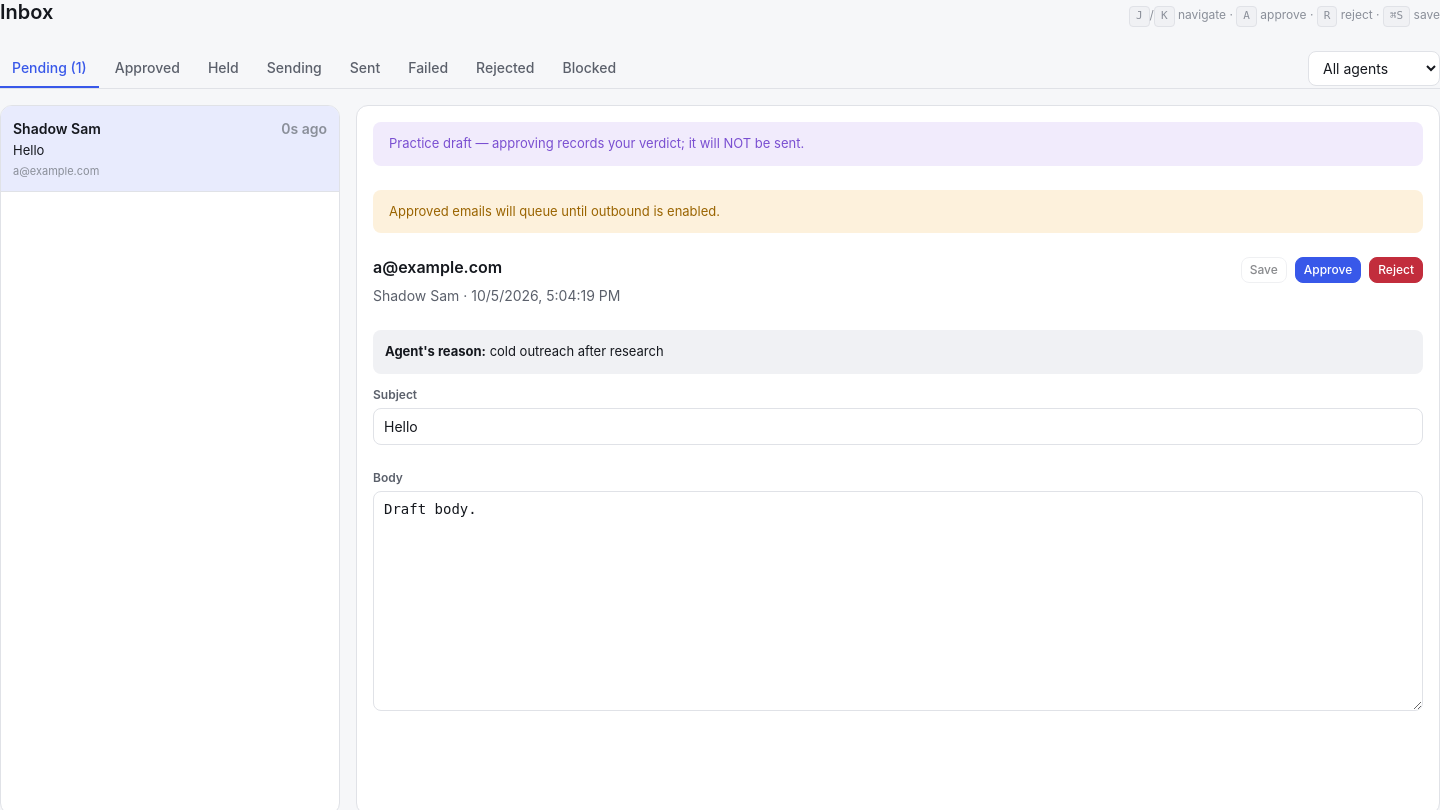
Inbox approval flow › approving a shadow-tier draft removes it from the pending list
Expected: the heading "a@example.com" is shown, [373,257,502,277]
What coordinates should you click on to do the following:
click the button "Approve"
I would click on:
 (1328, 270)
Its box is [1295,257,1361,283].
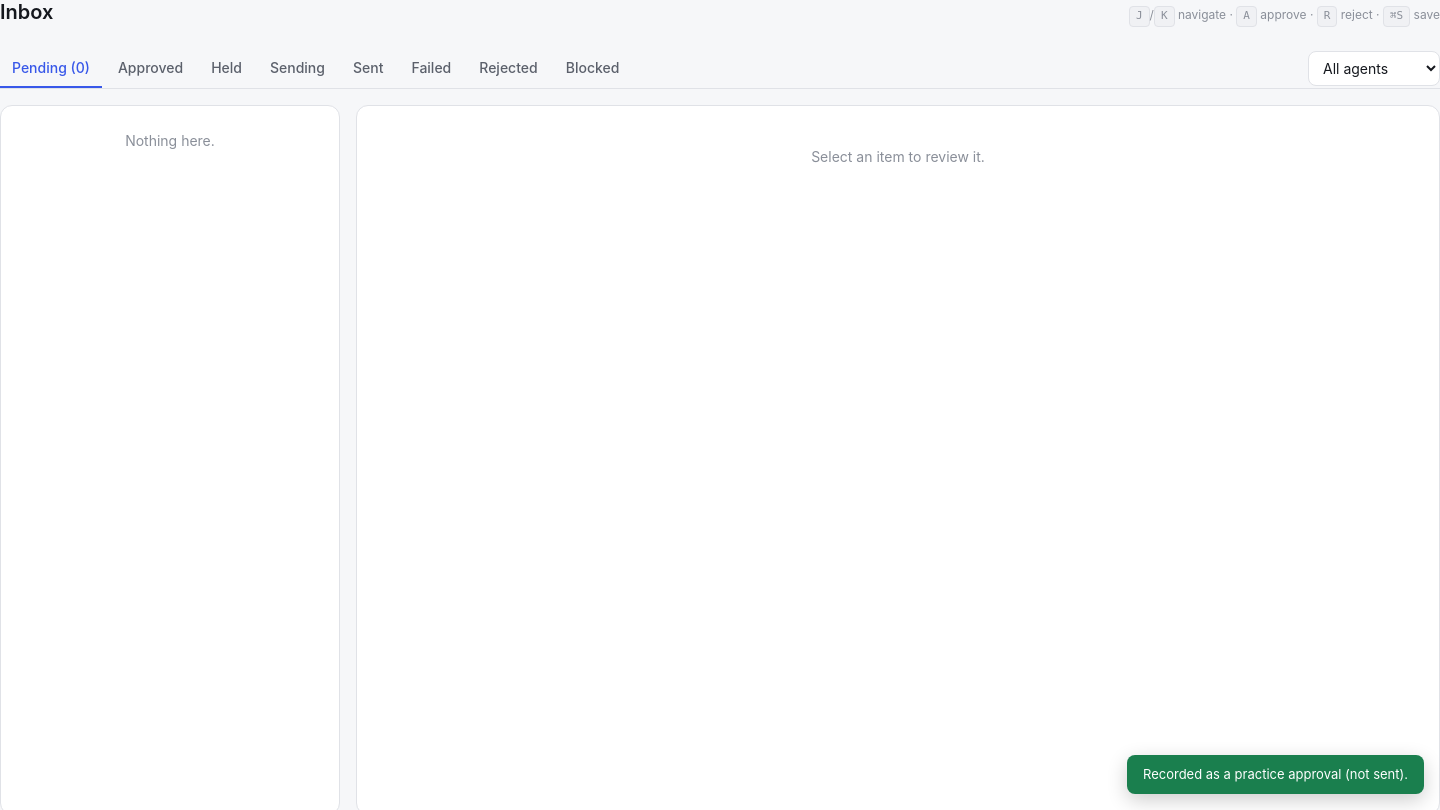
Expected: the button "a@example.com" is gone
